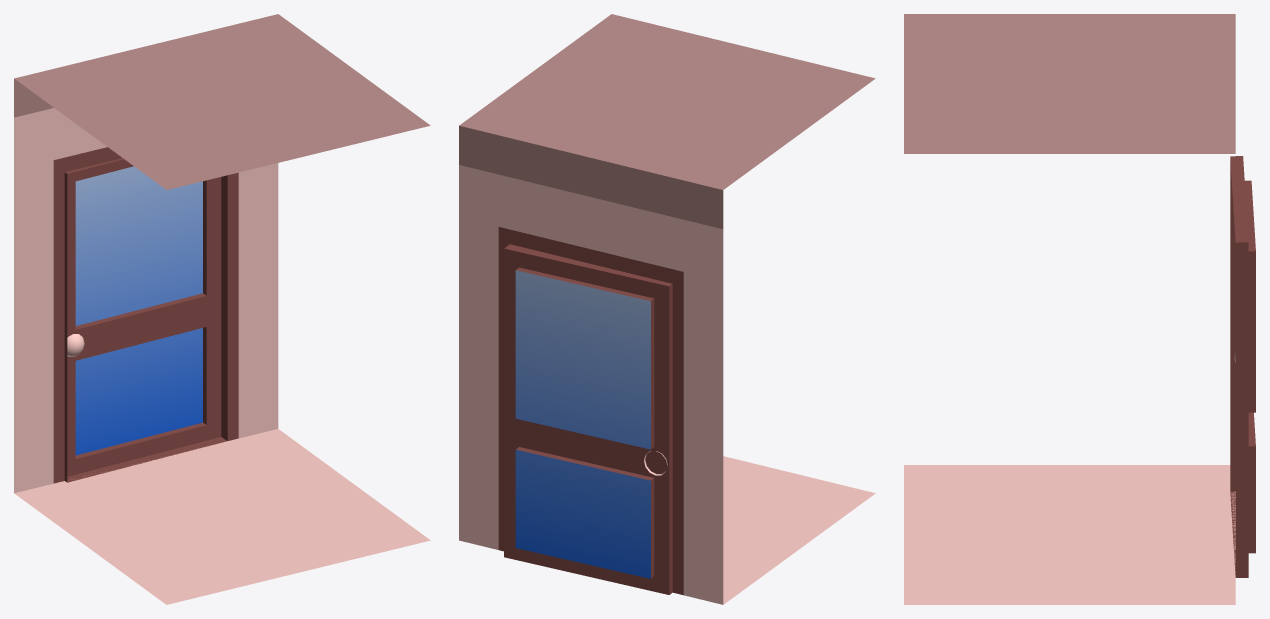
File: Wall_With_Door_Ceiling.fbx
The picture shows the model from 3 angles, left to right: view 1: azimuth 30°, elevation 25°; view 2: azimuth 150°, elevation 25°; view 3: azimuth 270°, elevation 25°; orthographic projection. The views are drawn at different scales.
Visible parts, largest first — view 1: Wall.001, Door.001; view 2: Wall.001, Door.001; view 3: Wall.001, Door.001.
Part boxes in pixels (x1=…): Wall.001: x1=14, y1=14, x2=430, y2=604; Door.001: x1=64, y1=158, x2=227, y2=482; Wall.001: x1=459, y1=14, x2=875, y2=604; Door.001: x1=504, y1=244, x2=672, y2=594; Wall.001: x1=904, y1=14, x2=1235, y2=604; Door.001: x1=1230, y1=156, x2=1255, y2=577.
Bounding box in the file's own units: 2 × 3 × 2.12.
